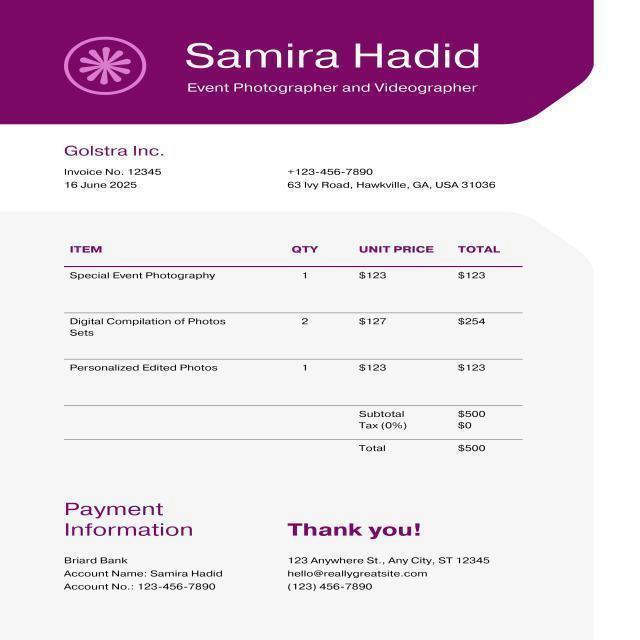paragraph: (176, 24, 495, 111), (57, 486, 235, 622), (336, 404, 518, 476), (282, 549, 508, 602), (271, 158, 520, 203), (46, 18, 159, 110), (266, 511, 442, 543), (58, 164, 172, 194), (54, 138, 177, 161)
table: (57, 239, 518, 383)
